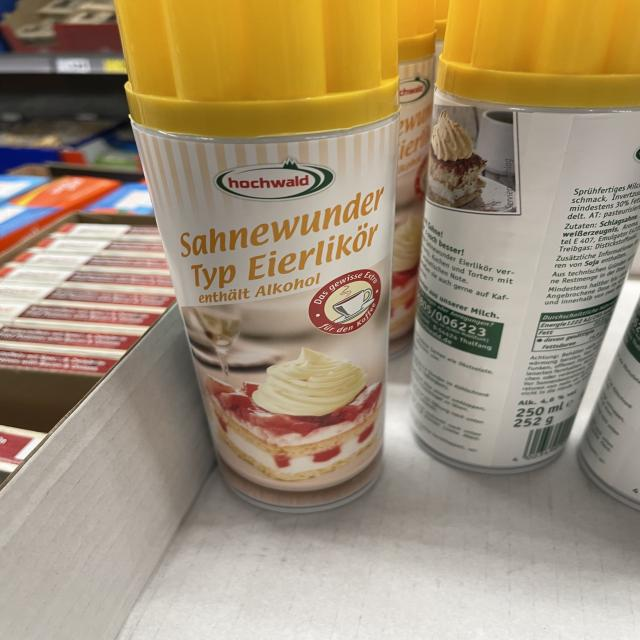Cream: (115, 0, 399, 512), (412, 0, 640, 474), (389, 0, 435, 357)
